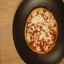pizza: (25, 8, 58, 54)
